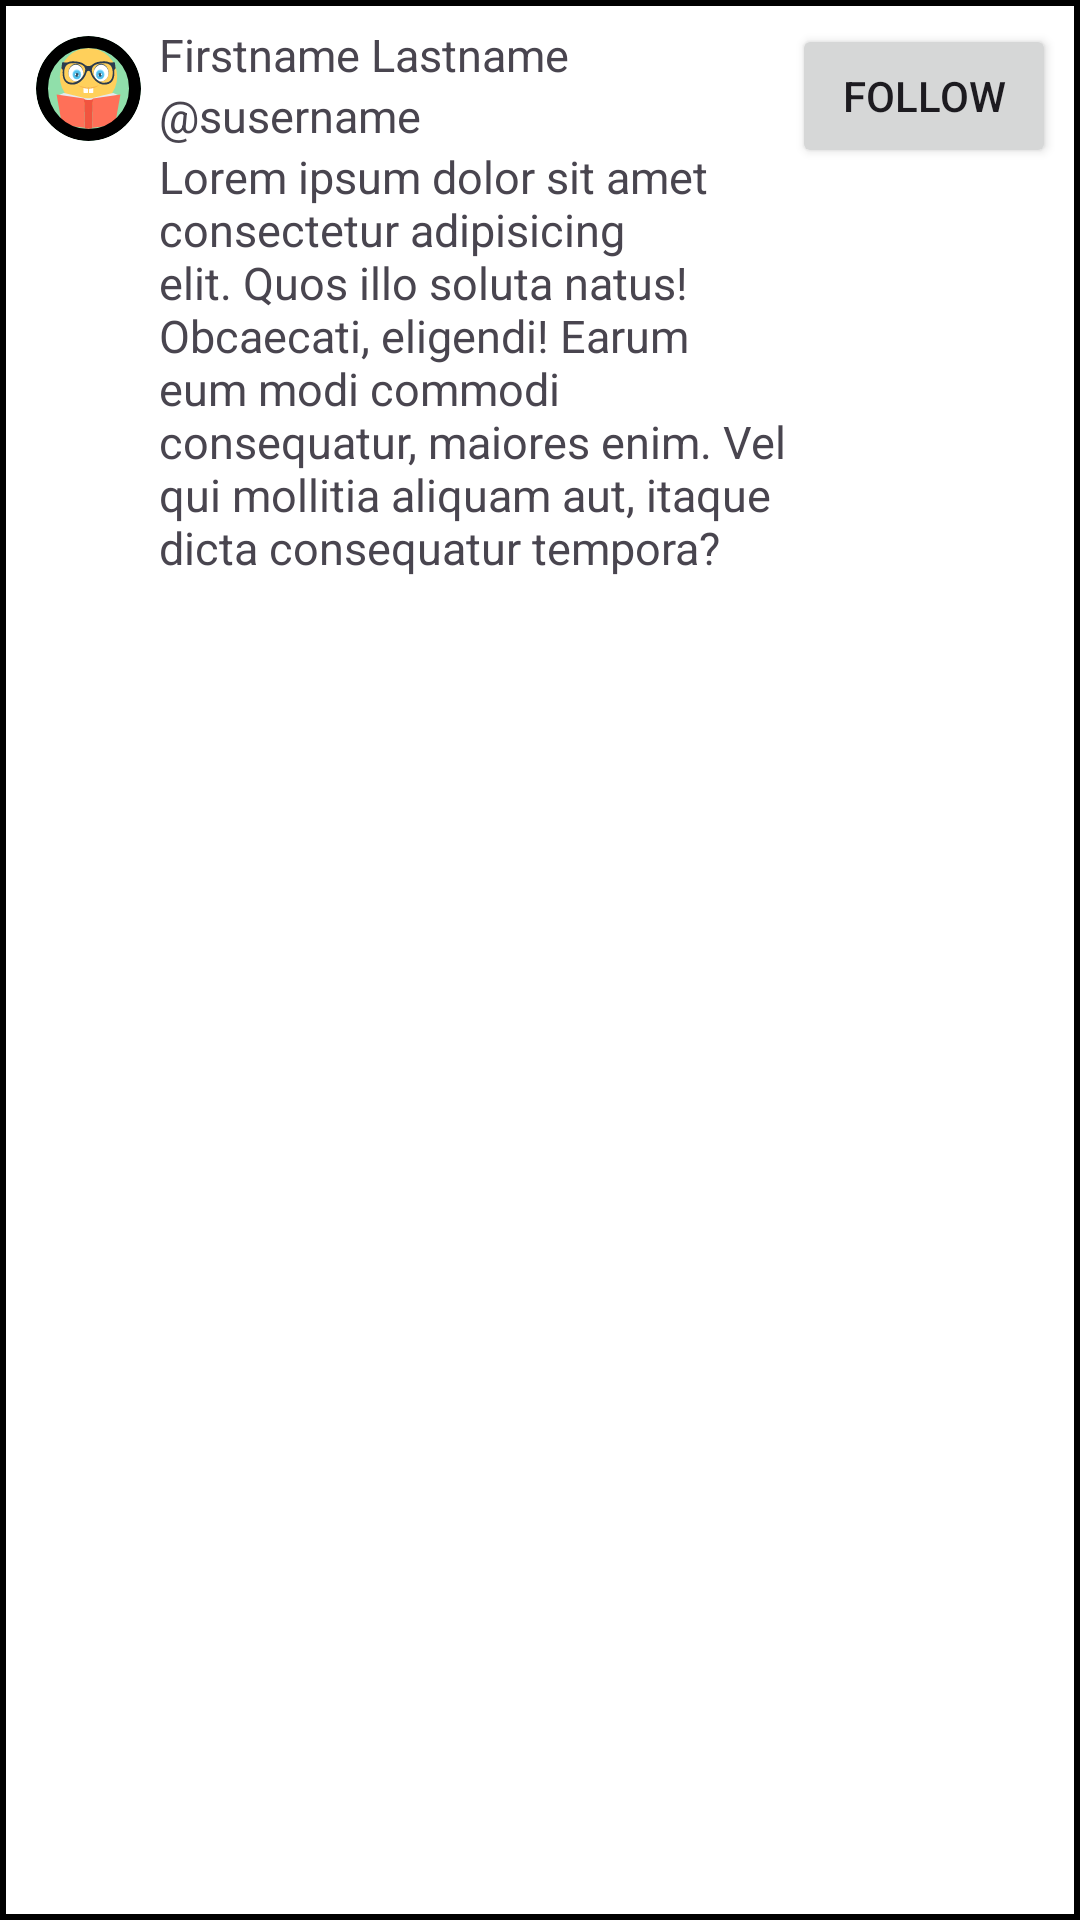

Where icons sit on this 1080 x 1920 app screen, as BBox(x1, y1, x2, y2):
Profile picture: BBox(36, 36, 141, 141)
